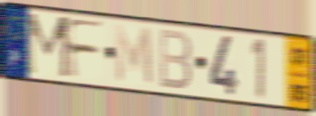1: (250, 37, 266, 103)
4: (208, 33, 243, 99)
B: (158, 27, 194, 93)
F: (66, 16, 106, 82)
M: (25, 11, 74, 82), (113, 23, 156, 89)
